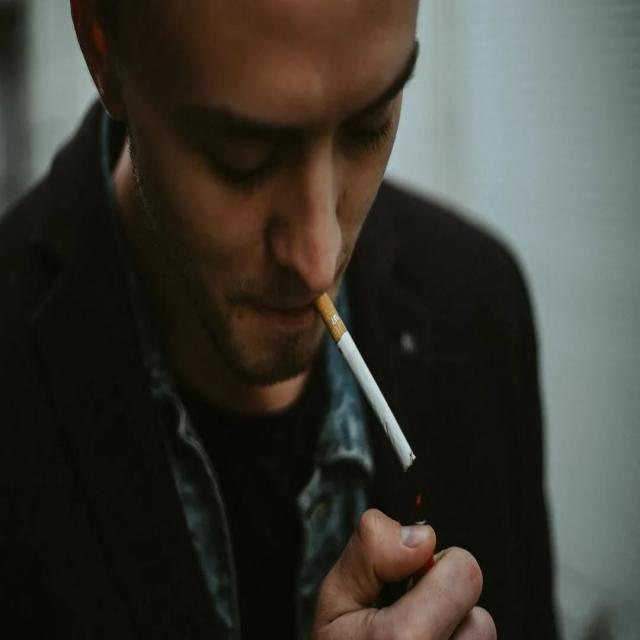cigarette: (316, 291, 419, 479)
